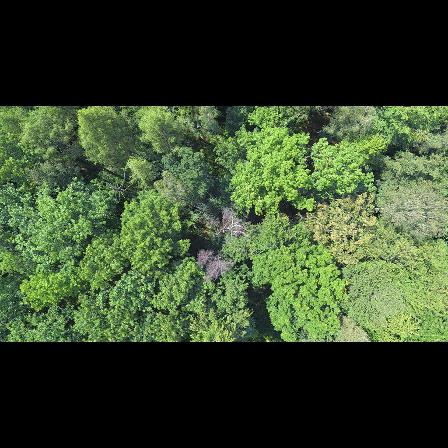Dead: (193, 206, 251, 238), (195, 245, 236, 276)
